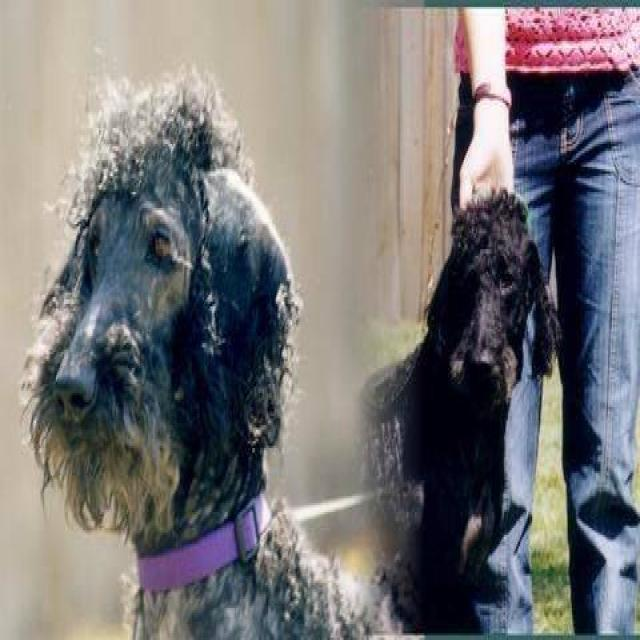dog: (19, 55, 401, 638), (356, 185, 563, 633)
